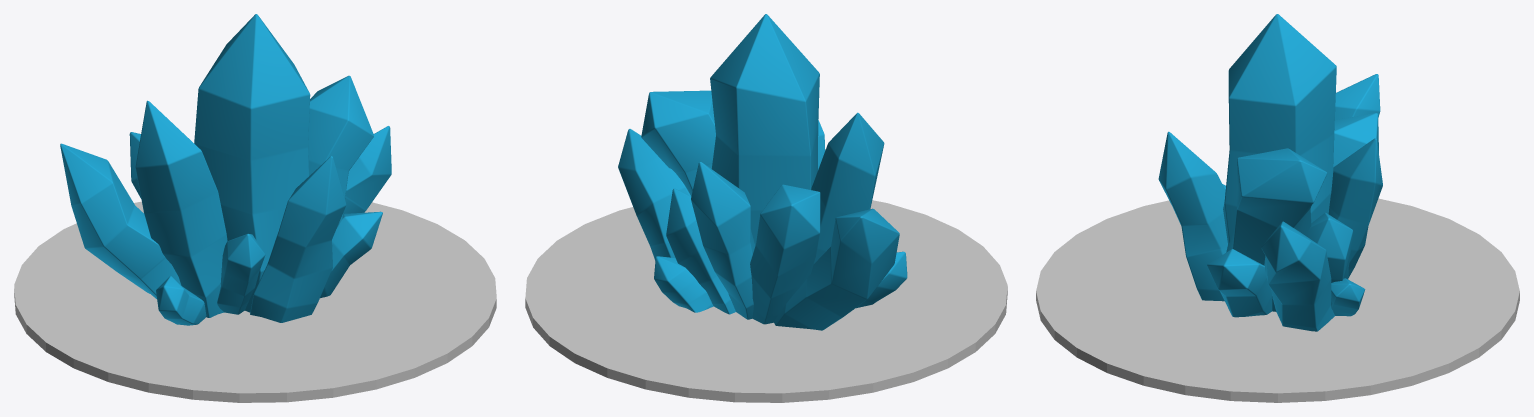
The model's file is Town Teleporter - with new Magic Circle.fbx.
3 renders of one model, left to right at view 1: azimuth 30°, elevation 25°; view 2: azimuth 150°, elevation 25°; view 3: azimuth 270°, elevation 25°, orthographic.
Parts seen in each view (by area): view 1: Cylinder, Circle; view 2: Cylinder, Circle; view 3: Circle, Cylinder.
Part boxes in pixels (x1=…): Cylinder: x1=60, y1=14, x2=391, y2=325; Circle: x1=14, y1=201, x2=496, y2=402; Cylinder: x1=618, y1=14, x2=907, y2=330; Circle: x1=525, y1=200, x2=1007, y2=402; Circle: x1=1036, y1=198, x2=1519, y2=402; Cylinder: x1=1158, y1=14, x2=1382, y2=331.
Size of the model in its own units: 932 by 663 by 932.
